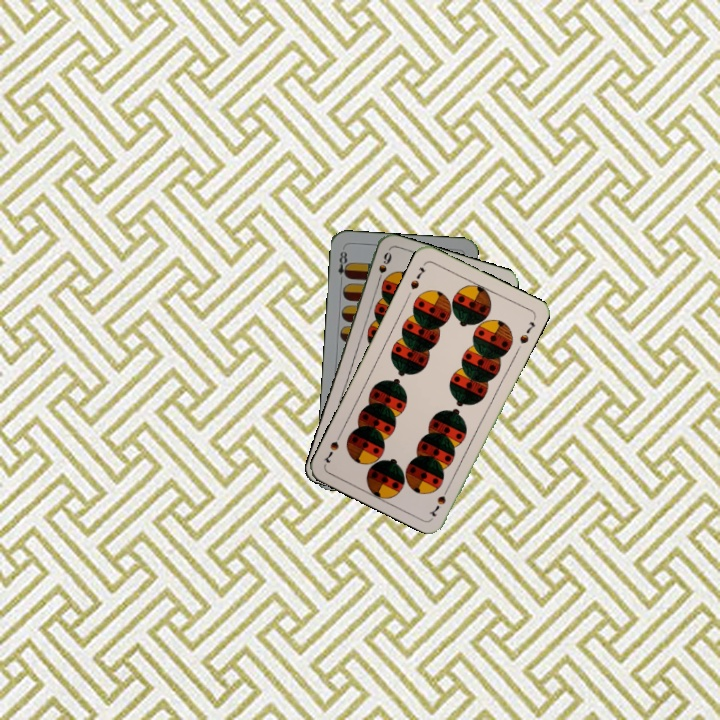E8: (334, 247, 352, 285)
S7: (425, 482, 452, 519), (406, 263, 429, 292)
S9: (373, 248, 394, 287)
